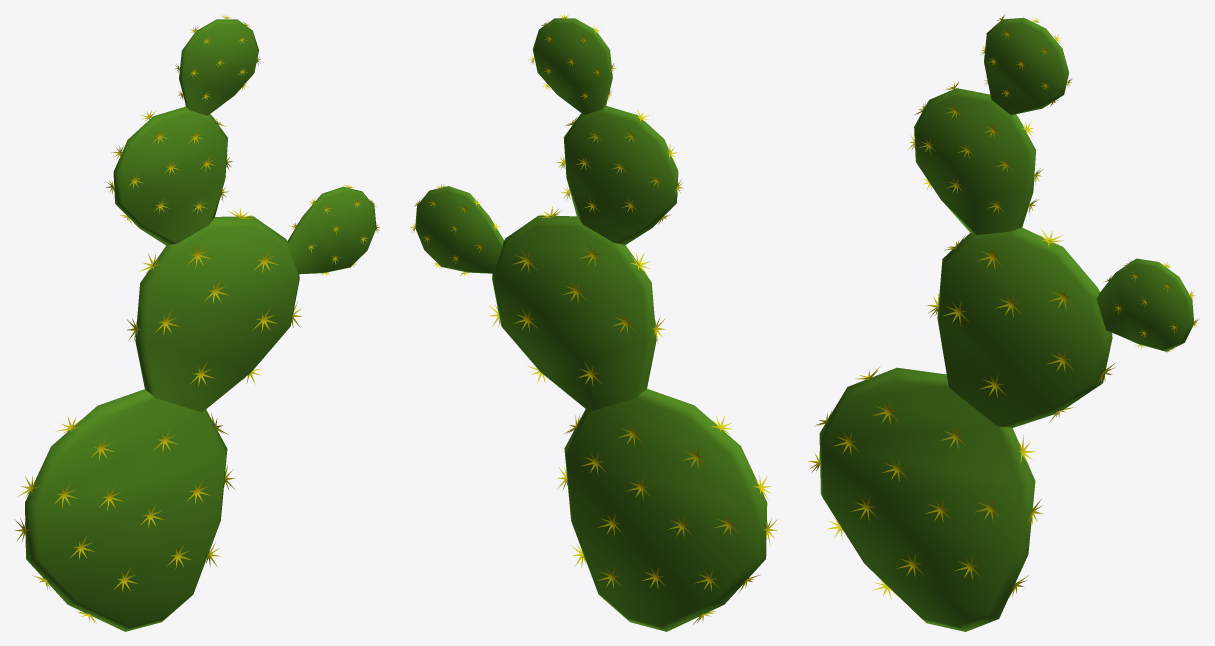
Rendered from cactus1.fbx.
3 renders of one model, left to right at view 1: azimuth 30°, elevation 25°; view 2: azimuth 150°, elevation 25°; view 3: azimuth 330°, elevation 25°, orthographic. The views are drawn at different scales.
Parts seen in each view (by area): view 1: Cactus1; view 2: Cactus1; view 3: Cactus1.
Boxes of the visible parts, box(x1,y1,x2,y2) form: Cactus1: box(14, 14, 379, 631); Cactus1: box(409, 14, 777, 631); Cactus1: box(808, 15, 1199, 631).
Bounding box in the file's own units: 92.78 × 146 × 7.21.
